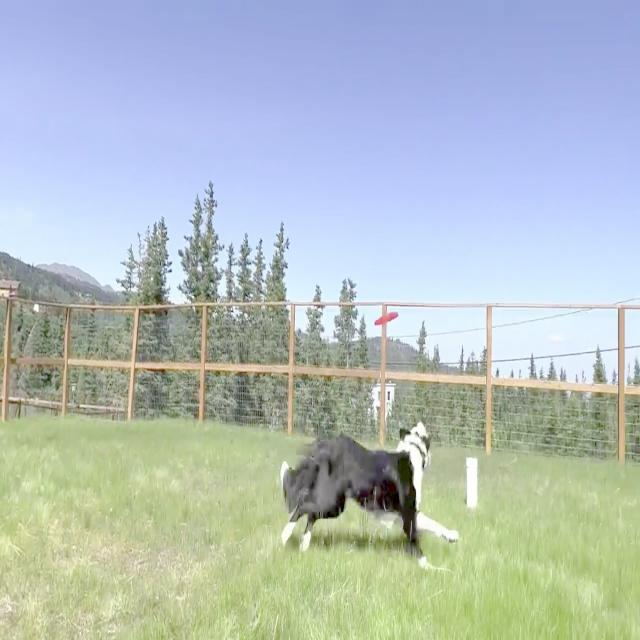Dog: (280, 421, 459, 566)
